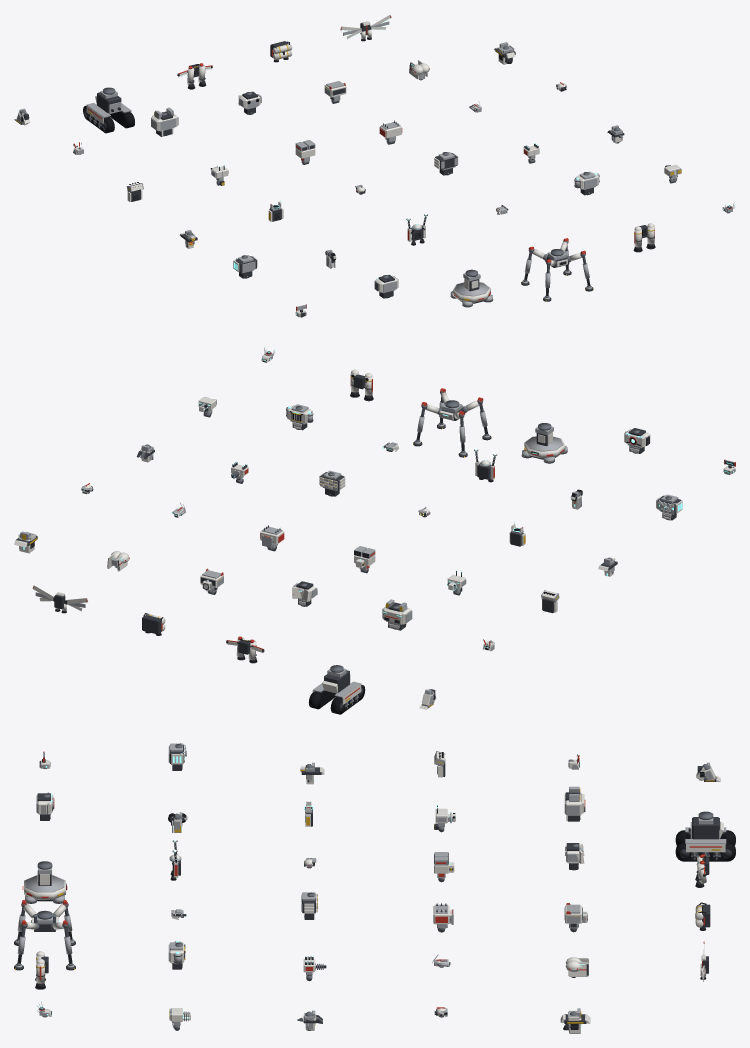
Rendered from parts.glb.
The picture shows the model from 3 angles, top to bottom: view 1: azimuth 30°, elevation 25°; view 2: azimuth 150°, elevation 25°; view 3: azimuth 270°, elevation 25°; orthographic projection. The views are drawn at different scales.
Visible parts, largest first — view 1: no part large enough to name; view 2: no part large enough to name; view 3: Box.1212.
Boxes of the visible parts, x1,y1,x2,y2 form: Box.1212: (692,817,719,839).
Size of the model in its own units: 41.53 by 4.96 by 49.16.
